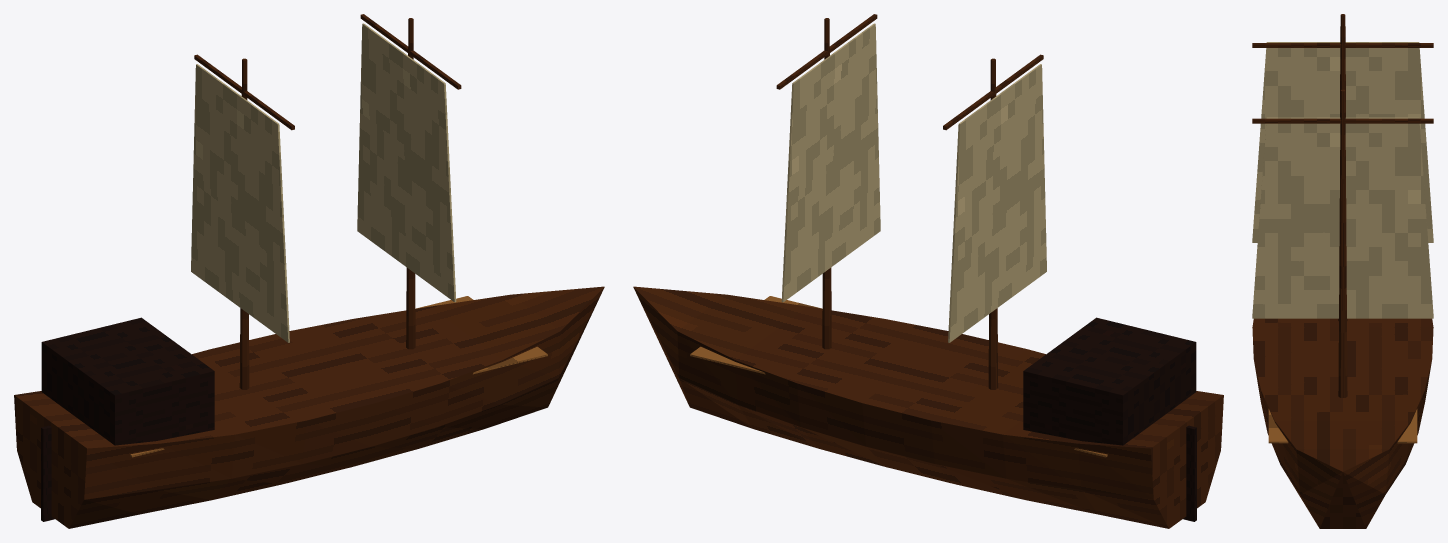
Rendered from barco_carga.glb.
The picture shows the model from 3 angles, left to right: view 1: azimuth 30°, elevation 25°; view 2: azimuth 150°, elevation 25°; view 3: azimuth 270°, elevation 25°; orthographic projection. The views are drawn at different scales.
Visible parts, largest first — view 1: casco, velas, castillo, mastiles, vergas, timon, cubierta; view 2: casco, velas, castillo, mastiles, vergas, timon, cubierta; view 3: velas, casco, mastiles, vergas, cubierta.
Boxes of the visible parts, bbox=[...] form: casco: bbox=[14, 286, 604, 528]; velas: bbox=[191, 23, 456, 342]; castillo: bbox=[41, 317, 214, 445]; mastiles: bbox=[239, 18, 415, 389]; vergas: bbox=[194, 14, 461, 130]; timon: bbox=[41, 425, 54, 521]; cubierta: bbox=[130, 296, 547, 457]; casco: bbox=[633, 286, 1223, 528]; velas: bbox=[781, 23, 1046, 342]; castillo: bbox=[1023, 317, 1196, 445]; mastiles: bbox=[822, 18, 998, 389]; vergas: bbox=[776, 14, 1043, 130]; timon: bbox=[1183, 425, 1196, 521]; cubierta: bbox=[690, 296, 1107, 457]; velas: bbox=[1252, 42, 1433, 318]; casco: bbox=[1252, 318, 1433, 528]; mastiles: bbox=[1338, 14, 1347, 397]; vergas: bbox=[1252, 43, 1433, 123]; cubierta: bbox=[1268, 409, 1417, 443].
Size of the model in its own units: 20 by 14 by 6.
Materials: 1 (1 with a texture image).
